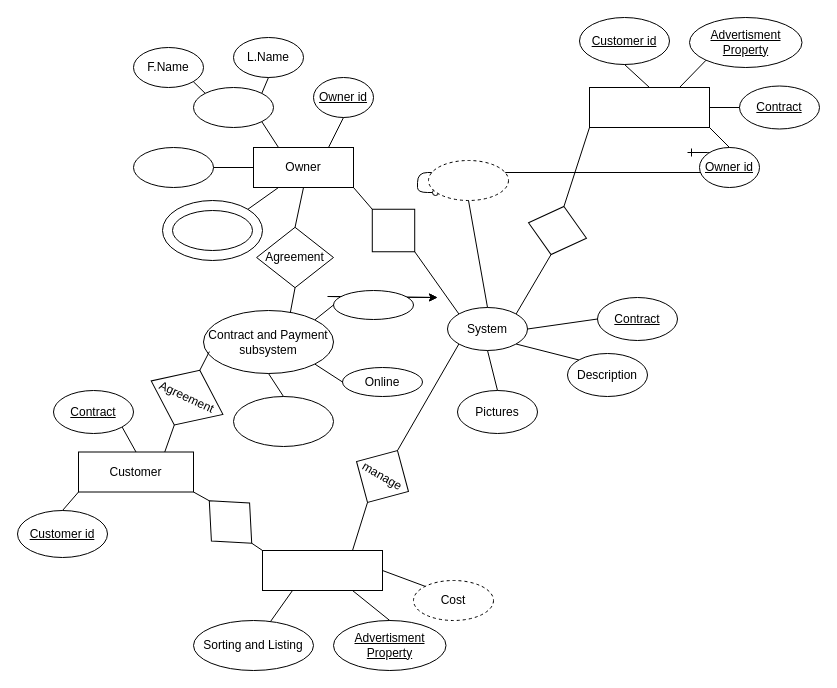
Image size: 837x688. Some labels were removed from this diagram. Here are the shapes that lost their labels. From the top down, the box of each, then its label:
(192, 86, 274, 128): Name
(588, 86, 710, 128): Admin
(132, 146, 214, 188): Location
(428, 160, 508, 200): Message
(172, 210, 252, 250): Phone Number
(350, 187, 436, 273): Upload
(521, 198, 593, 262): Update
(332, 290, 414, 320): Cash on hand
(232, 396, 334, 446): Legal Document
(189, 480, 271, 562): Search
(262, 550, 382, 590): Property Management
